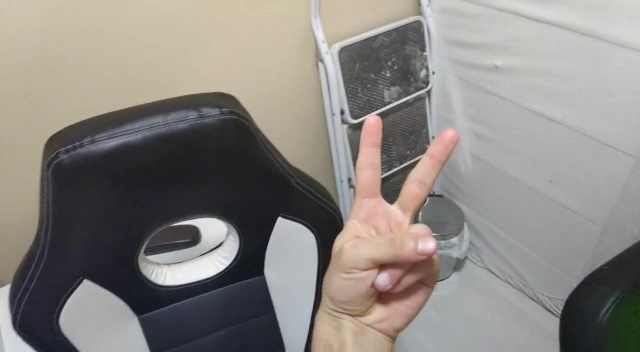Peace: (318, 114, 463, 347)
